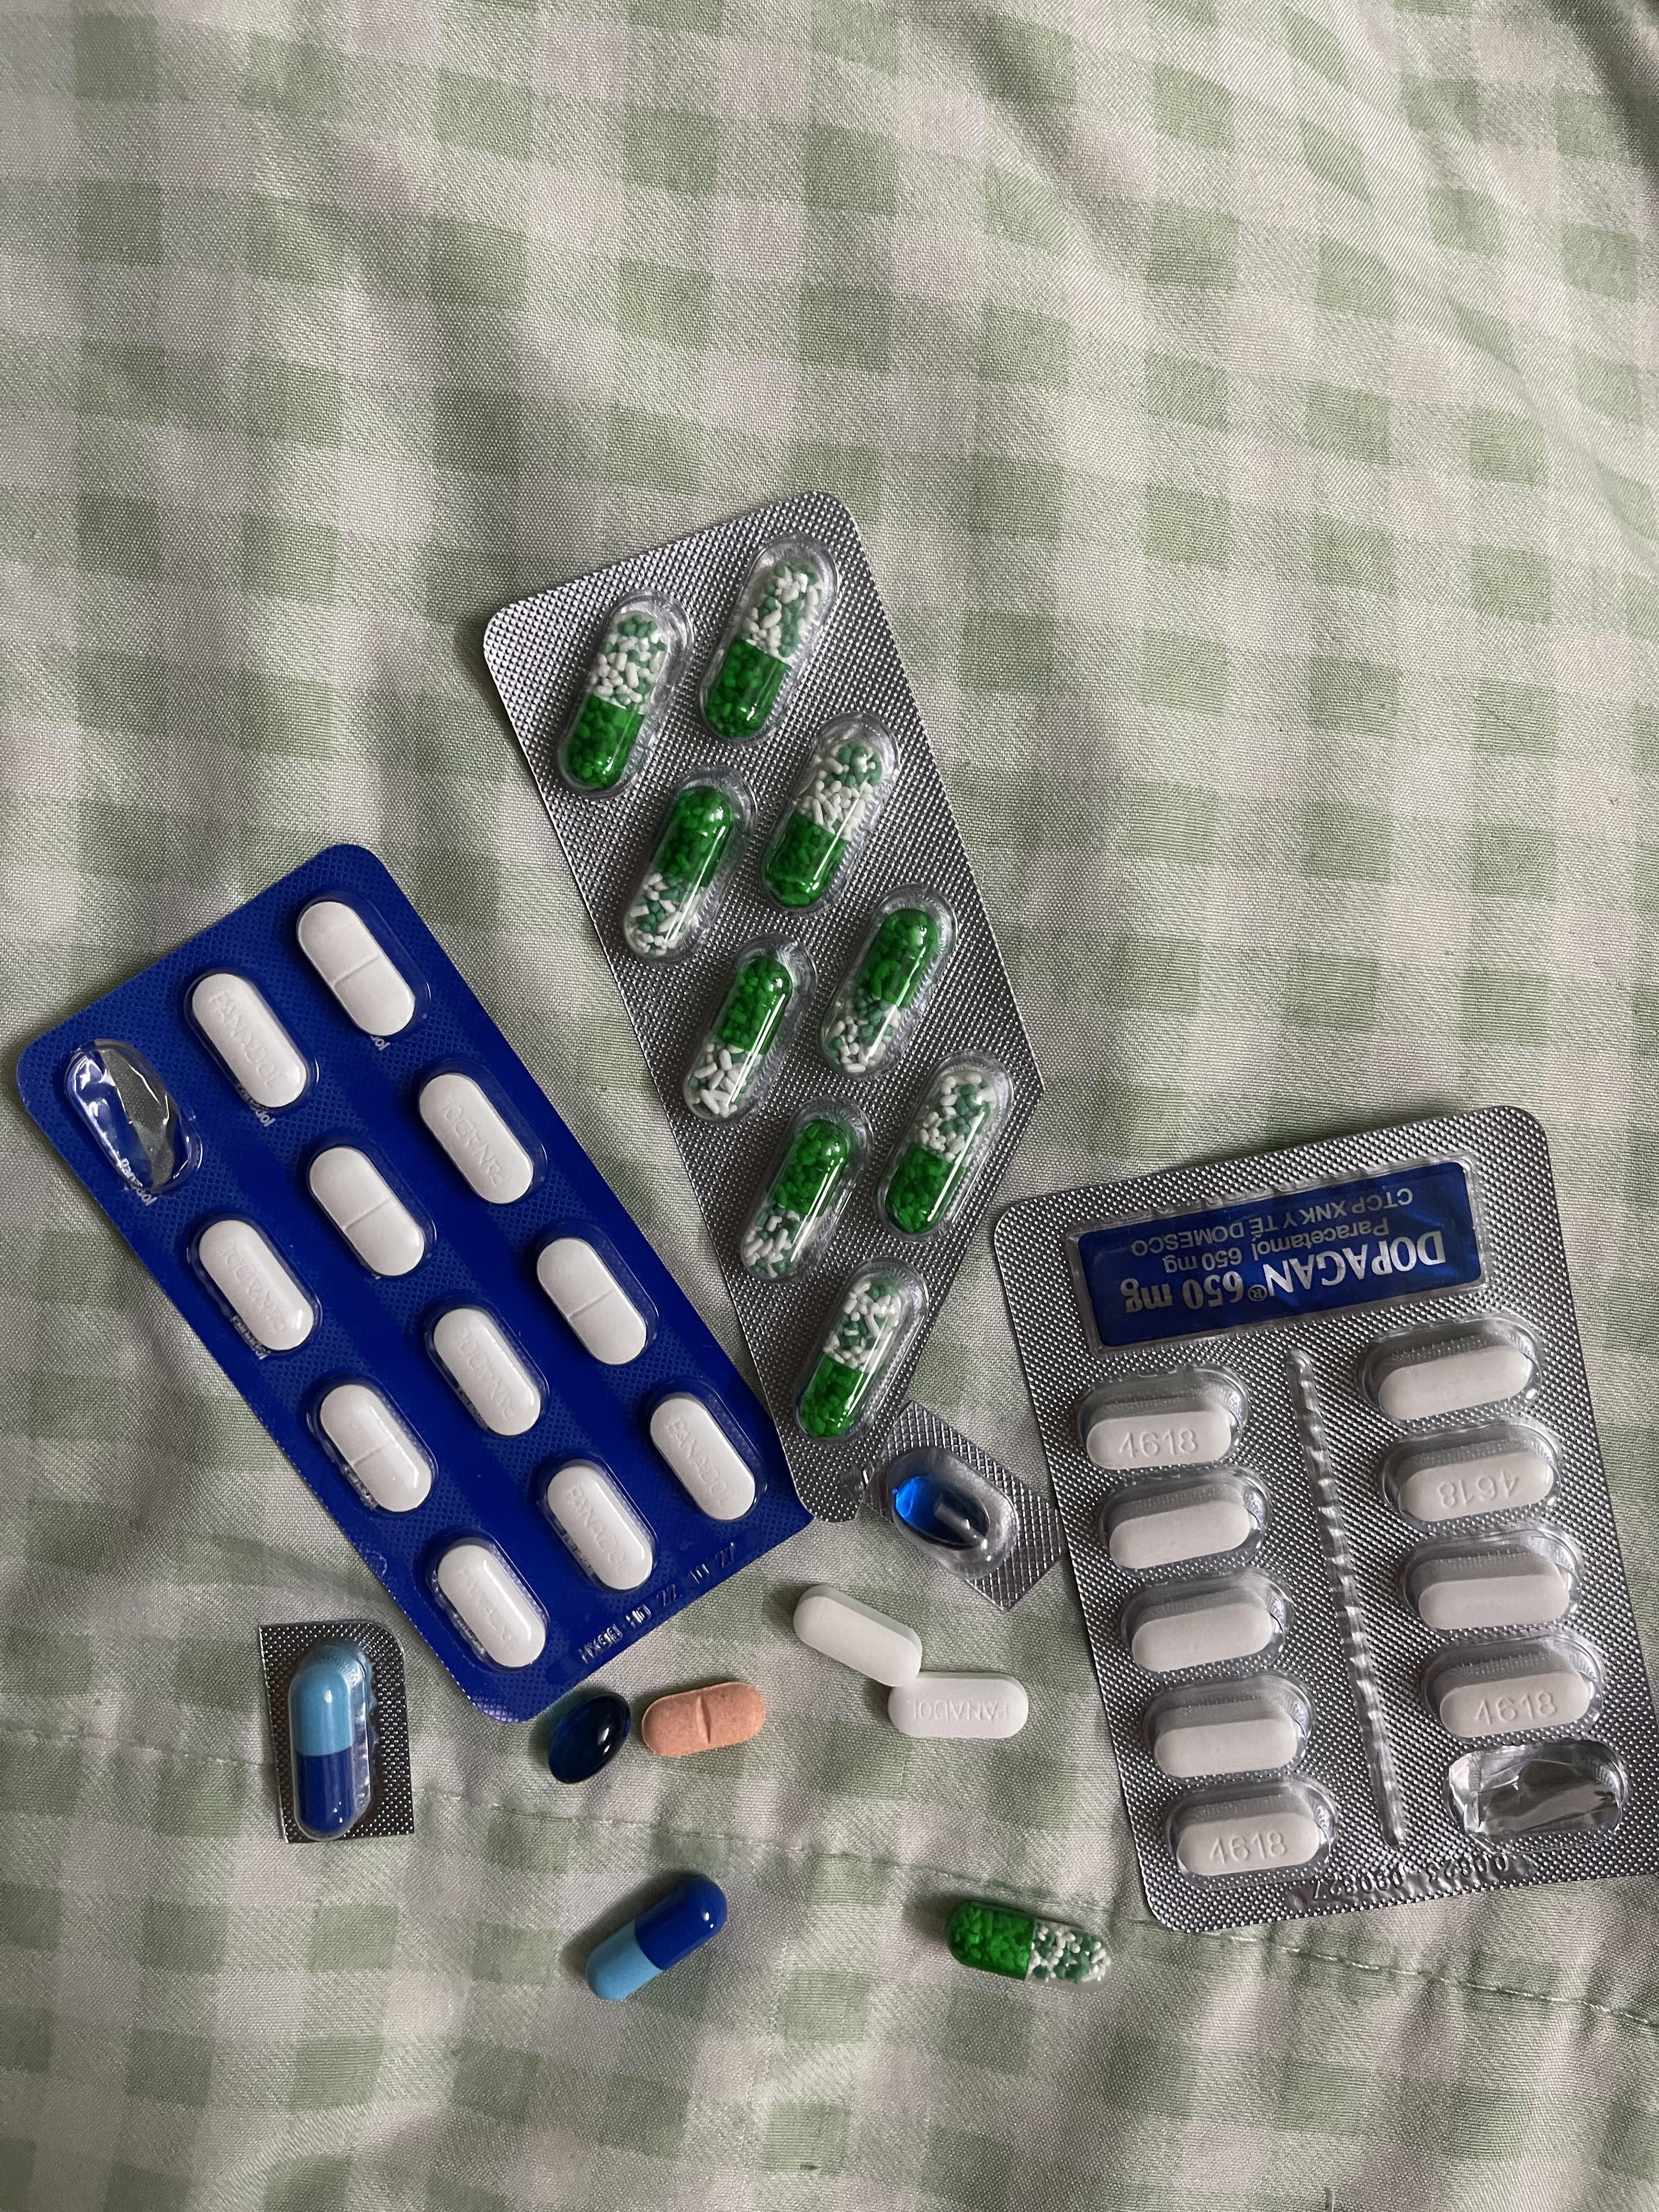Lincomyxin_500mg: (547, 1693, 633, 1785), (896, 1472, 997, 1547)
Loratadine_10mg: (643, 1684, 765, 1757)
Paracetamol_350mg: (190, 1217, 317, 1362), (188, 972, 314, 1116), (307, 1374, 434, 1512), (416, 1068, 540, 1207), (427, 1305, 551, 1442), (535, 1454, 660, 1588), (298, 902, 418, 1040), (427, 1531, 551, 1663), (307, 1144, 429, 1278), (533, 1235, 648, 1367), (648, 1393, 762, 1522), (889, 1674, 1030, 1742)
Paracetamol_500mg: (1079, 1388, 1244, 1474), (793, 1585, 924, 1689), (1129, 1592, 1286, 1679), (1371, 1346, 1537, 1426), (1154, 1696, 1305, 1782), (1391, 1449, 1558, 1526), (1108, 1496, 1262, 1576), (1413, 1564, 1579, 1637), (1438, 1670, 1596, 1742), (1175, 1808, 1323, 1881)
Paracetamol_650mg: (695, 542, 836, 749), (756, 711, 892, 916), (814, 894, 955, 1083), (622, 770, 756, 961), (875, 1062, 1012, 1237), (681, 939, 812, 1122), (791, 1268, 918, 1437), (563, 611, 673, 789), (744, 1115, 852, 1271), (945, 1898, 1107, 1986)
pill: (586, 1872, 728, 2003), (291, 1639, 376, 1844)
